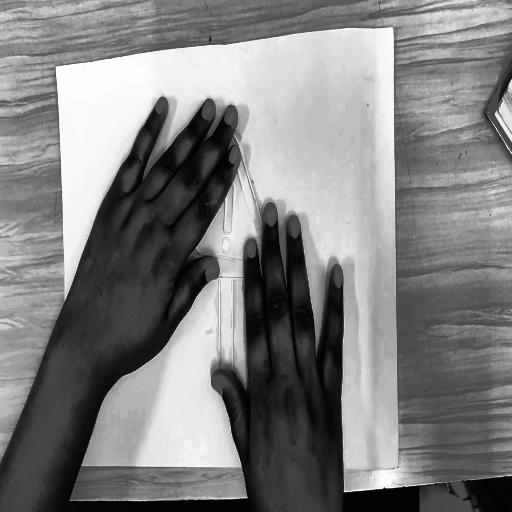bottom_left: (58, 459, 68, 471)
bottom_right: (394, 453, 402, 470)
signboard: (167, 117, 284, 392)
top_left: (51, 57, 61, 78)
top_right: (390, 22, 398, 34)
